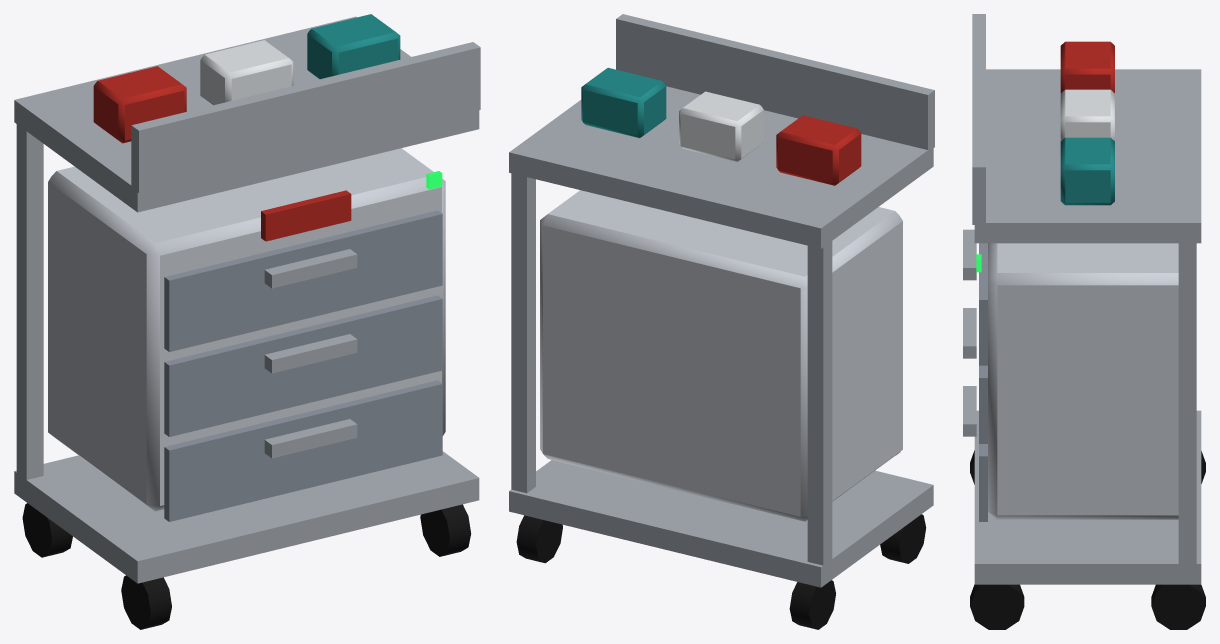
The model's file is medcabinet_medical_supply_cart.glb.
The picture shows the model from 3 angles, left to right: view 1: azimuth 30°, elevation 25°; view 2: azimuth 150°, elevation 25°; view 3: azimuth 270°, elevation 25°; orthographic projection. The views are drawn at different scales.
Visible parts, largest first — view 1: medcabinet_medical_supply_cart; view 2: medcabinet_medical_supply_cart; view 3: medcabinet_medical_supply_cart.
Part boxes in pixels (bbox=[...]): medcabinet_medical_supply_cart: bbox=[14, 14, 480, 629]; medcabinet_medical_supply_cart: bbox=[509, 14, 934, 629]; medcabinet_medical_supply_cart: bbox=[963, 14, 1205, 629].
Size of the model in its own units: 0.8 by 1.14 by 0.535.
